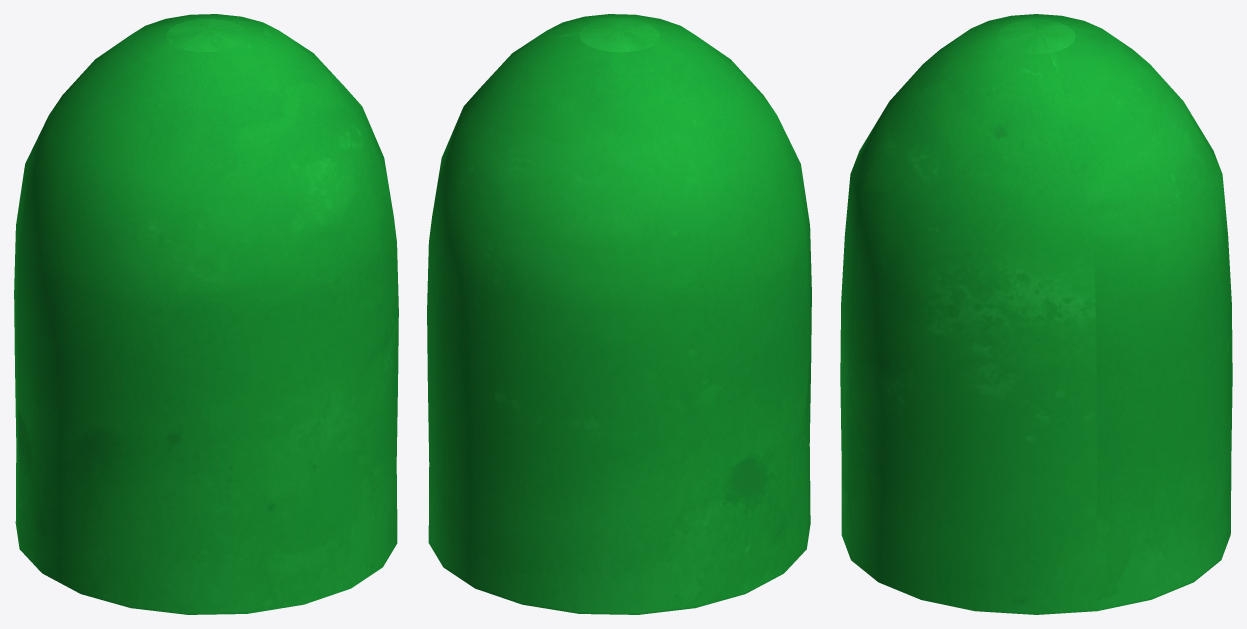
The model's file is BackGround.fbx.
3 views of the same model, side by side, from view 1: azimuth 30°, elevation 25°; view 2: azimuth 150°, elevation 25°; view 3: azimuth 270°, elevation 25° (orthographic).
Parts seen in each view (by area): view 1: pSphere1; view 2: pSphere1; view 3: pSphere1.
Part boxes in pixels (x1,y1,x2,y2): pSphere1: (14,14,398,614); pSphere1: (427,14,811,614); pSphere1: (840,14,1232,614).
Bounding box in the file's own units: 6.74 × 9.71 × 6.85.
